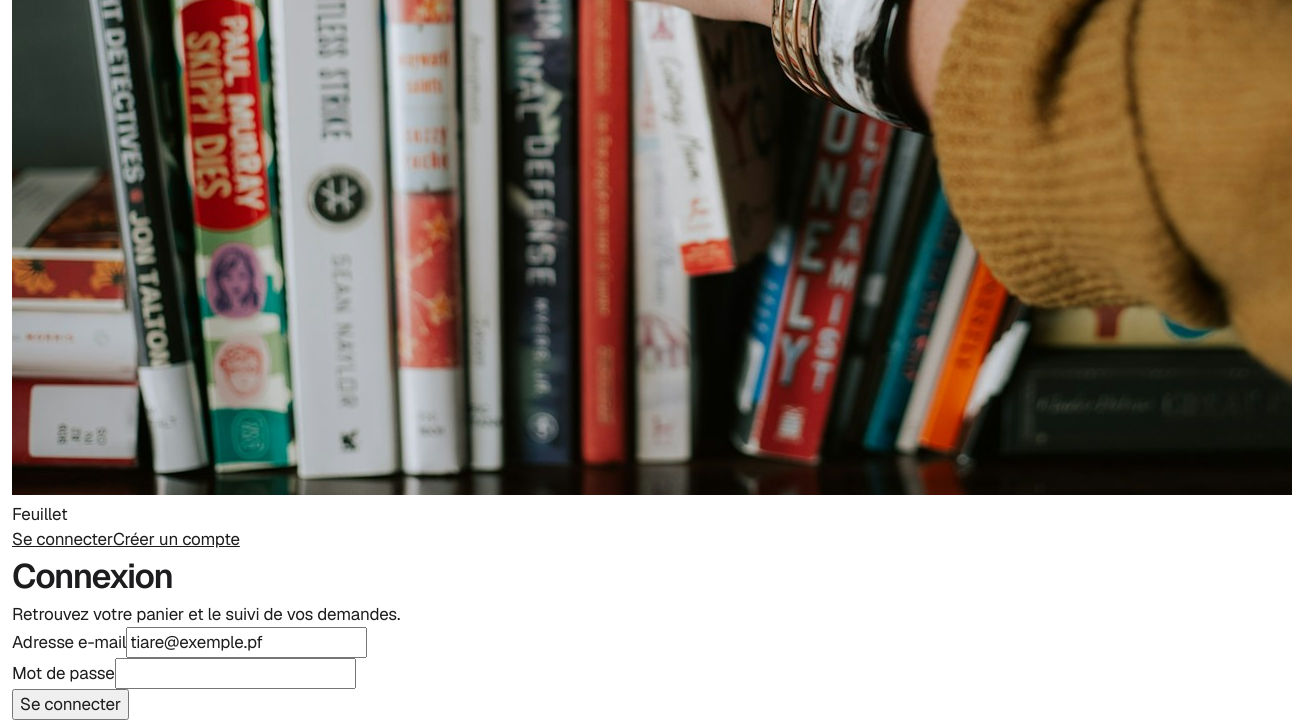
Test: page de connexion › ramène le client sur la page qu il voulait ouvrir
Earlier steps of the test are not shown.
(page scrolled)
Type "motdepasse1" into the password field labelled "Mot de passe" at (235, 673), box [115,658,356,689]
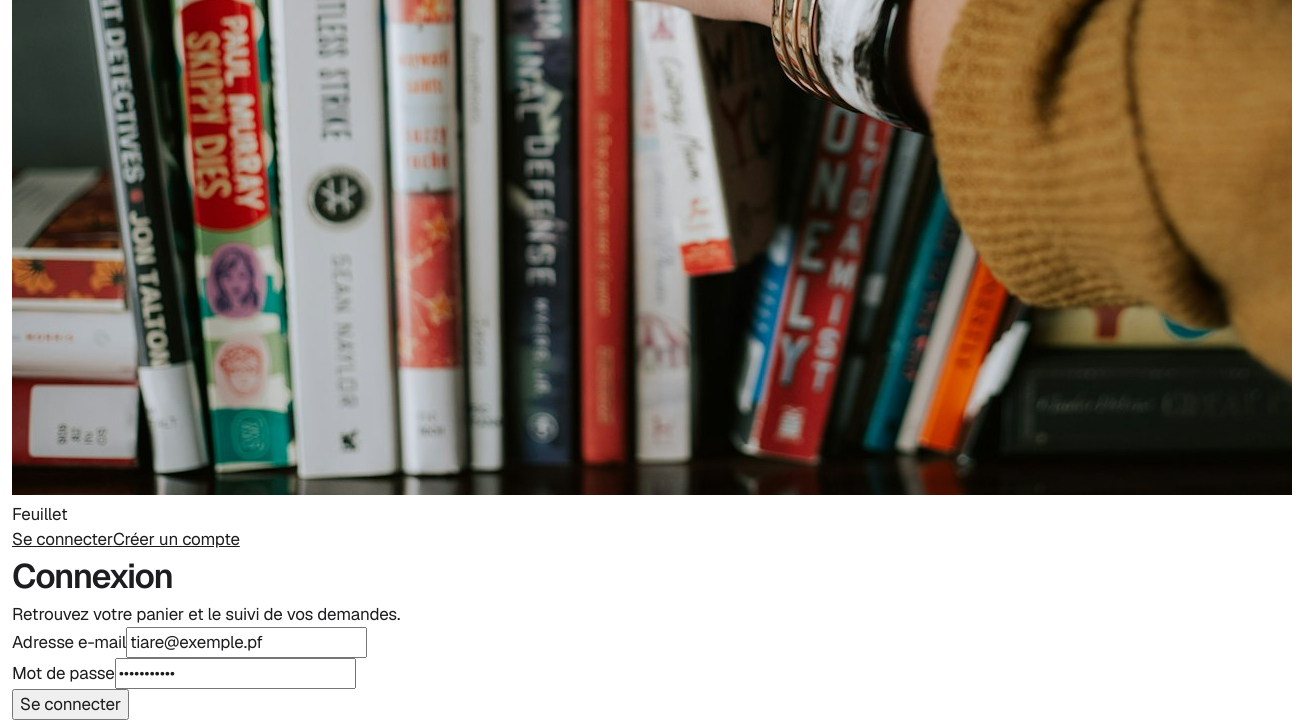
Click the button "Se connecter" at (70, 704), box [12,689,129,719]
(page scrolled)
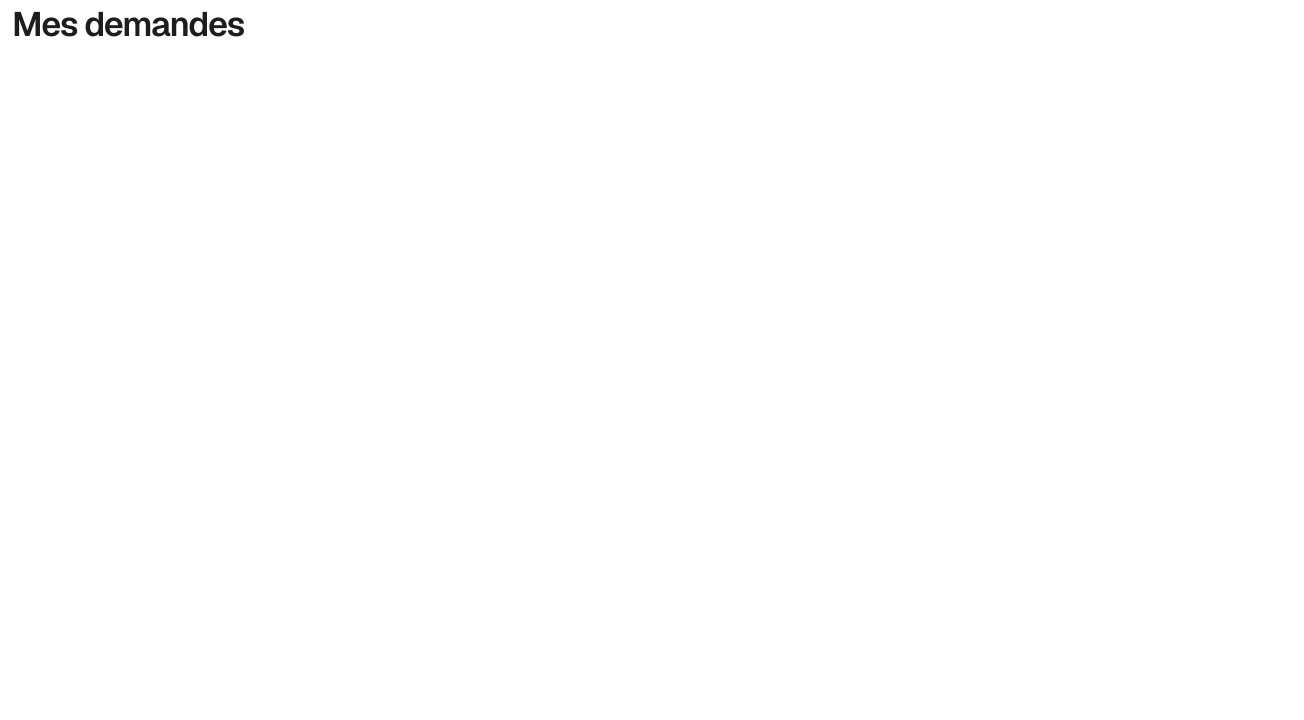
Check: the heading "Mes demandes" is shown, box [12,2,244,46]
